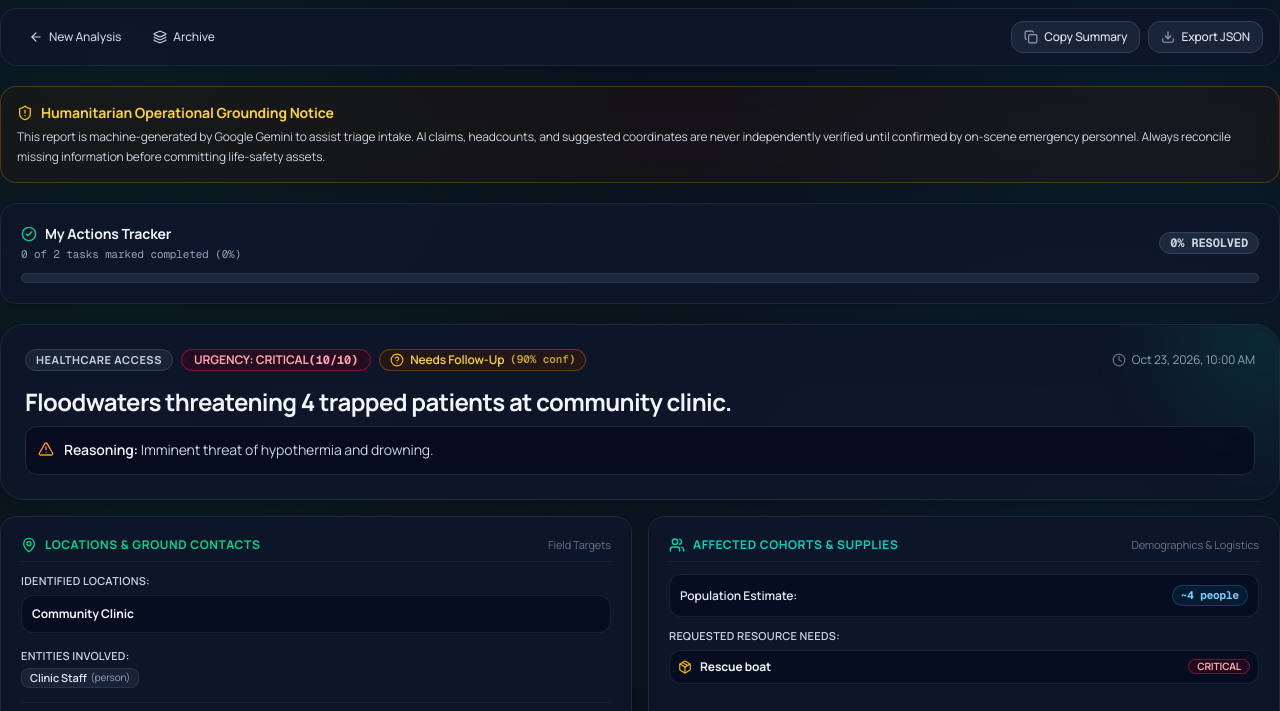
Test: ResultsSection Component › copies summary text to clipboard when clicking Copy Summary
Click the button with aria-label "Copy executive summary to clipboard".
click(1076, 37)  # box left=1011, top=21, right=1140, bottom=53
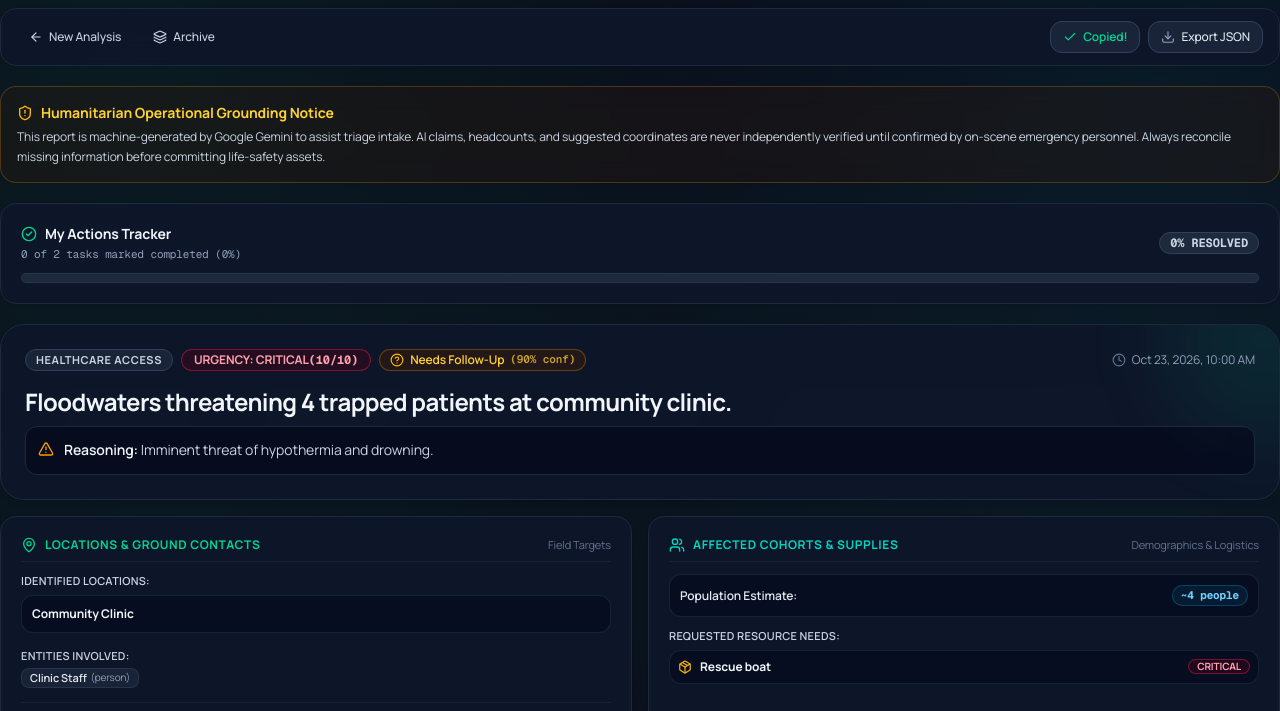
expect the text "Copied!" is shown: met, box left=1083, top=29, right=1128, bottom=45
